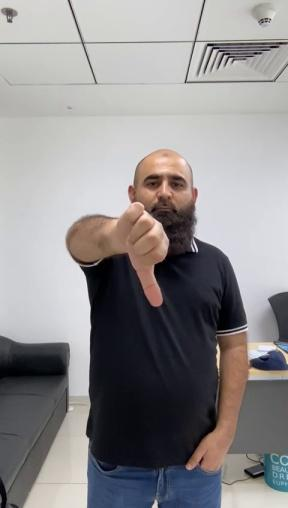thumbs-down: (117, 198, 170, 310)
